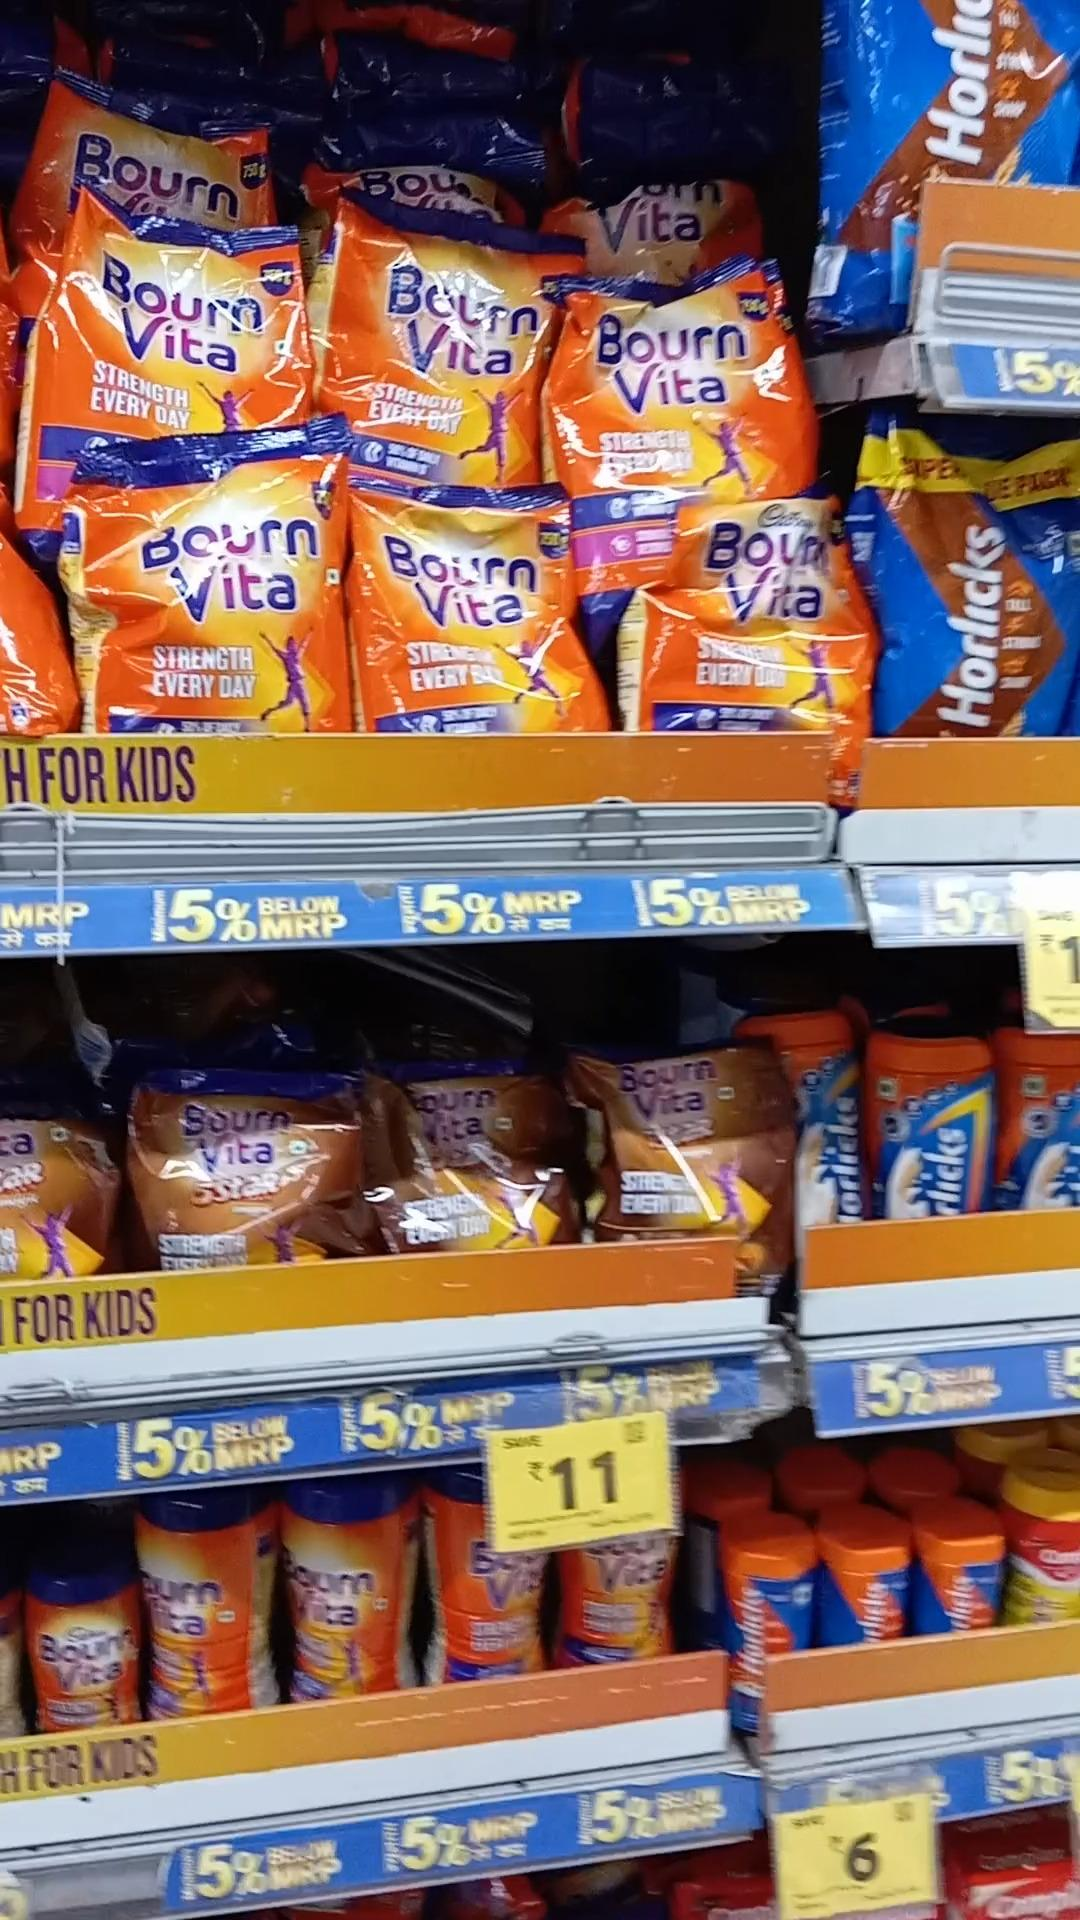BOURN_VITA_200_G_JAR: (28, 1568, 138, 1731)
BOURN_VITA_500_G_JAR: (285, 1478, 404, 1706), (140, 1491, 251, 1724), (438, 1457, 547, 1675)
BOURN_VITA_750_G_POUCH: (87, 430, 336, 744), (57, 207, 314, 447), (563, 260, 800, 513), (349, 493, 570, 744), (343, 203, 524, 469), (653, 510, 857, 737)
BOURN_VITA_FIVE_STAR_MAGIC_500_G_POUCH: (132, 1069, 340, 1265), (592, 1044, 787, 1250), (378, 1065, 568, 1244)
HORLICK_CHOCOLATE_750_G_POUCH: (878, 421, 1080, 738)
HORLICK_CLASSIC_MALT_200_G_JAR: (724, 1535, 795, 1724)
HORLICK_CLASSIC_MALT_500_G_PACK: (866, 1035, 990, 1224)
